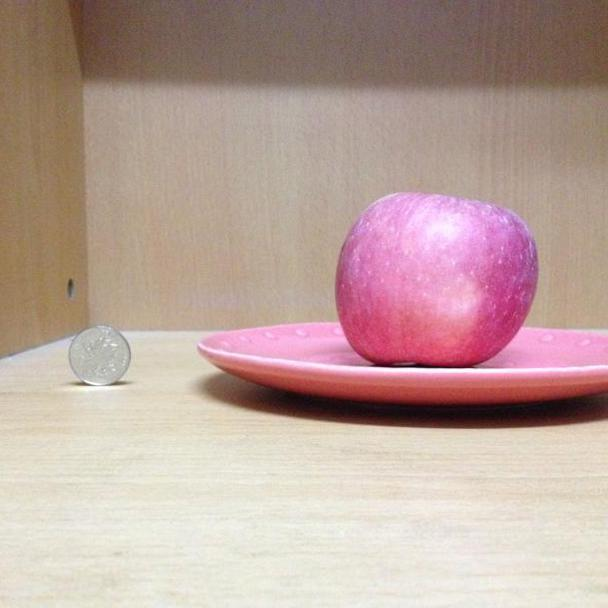apple: (335, 189, 543, 366)
